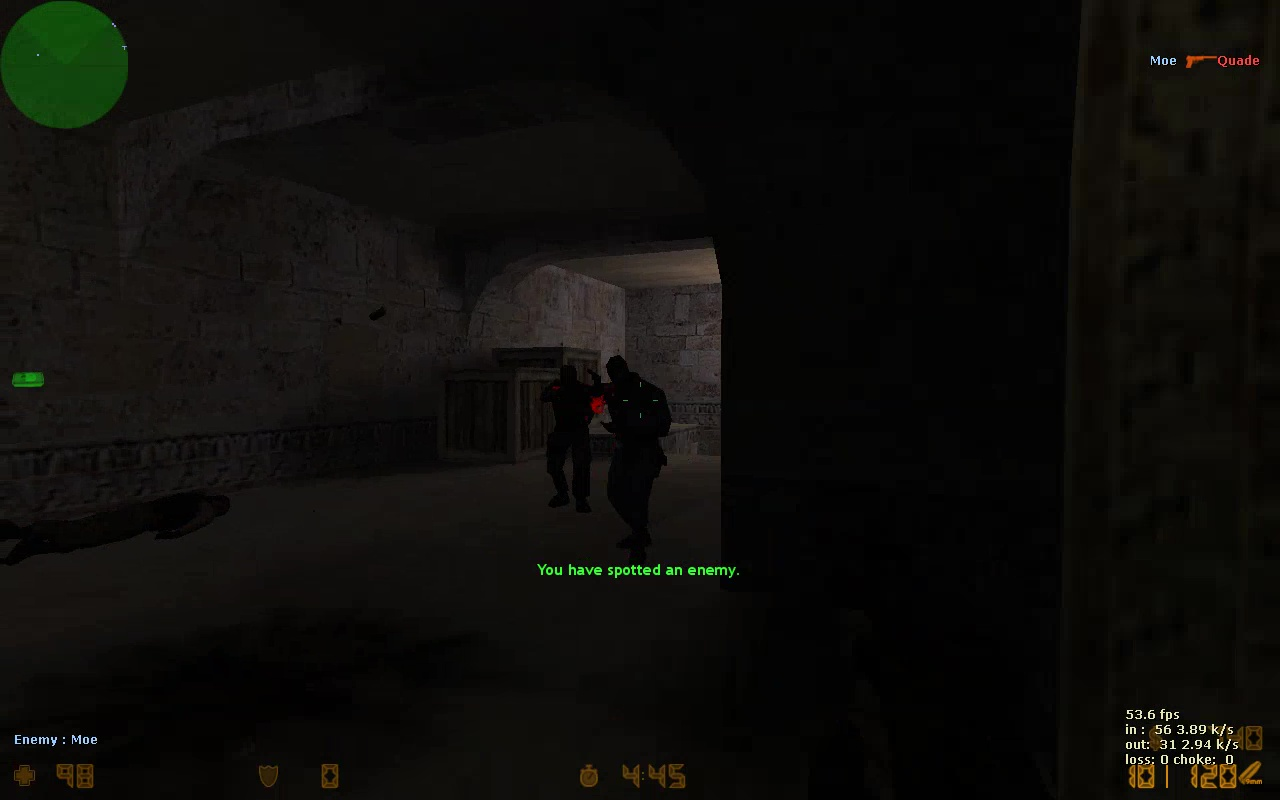ct: (598, 355, 669, 558), (535, 367, 603, 516)
dead: (1, 485, 225, 568)
